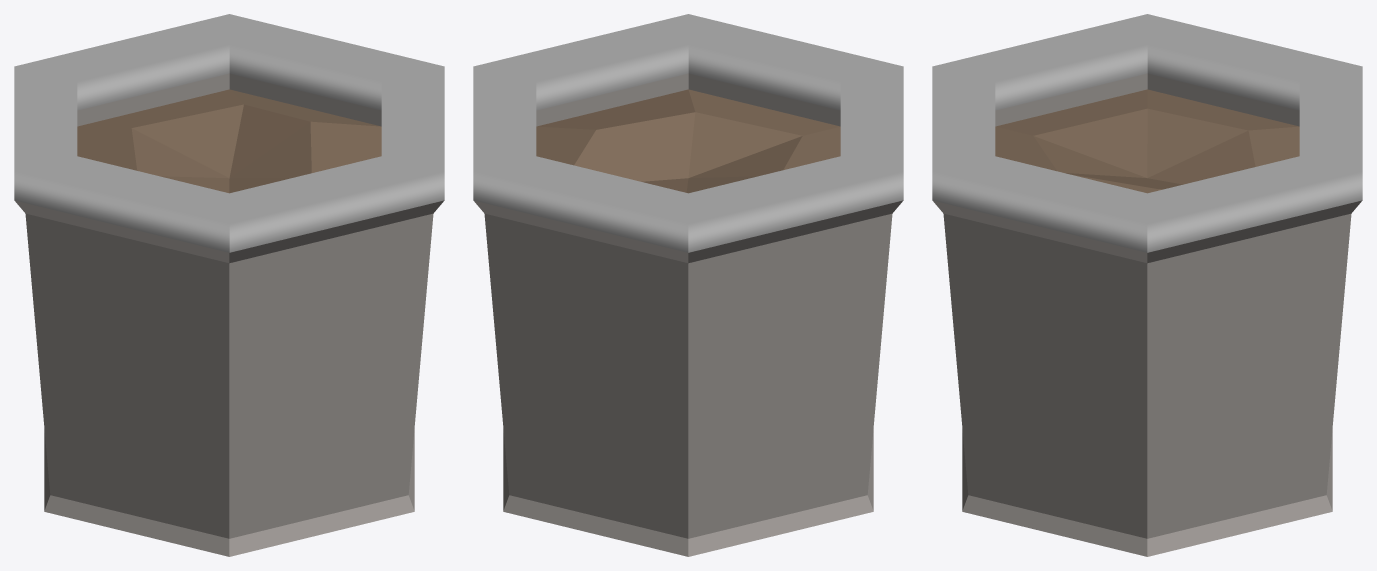
File: Plant_5.fbx
The picture shows the model from 3 angles, left to right: view 1: azimuth 30°, elevation 25°; view 2: azimuth 150°, elevation 25°; view 3: azimuth 270°, elevation 25°; orthographic projection.
Visible parts, largest first — view 1: pCylinder2; view 2: pCylinder2; view 3: pCylinder2.
Part boxes in pixels (box(x1,y1,x2,y2)): pCylinder2: box(14, 14, 444, 556); pCylinder2: box(473, 14, 903, 556); pCylinder2: box(932, 14, 1362, 556).
Bounding box in the file's own units: 1.41 × 1.09 × 1.22.
